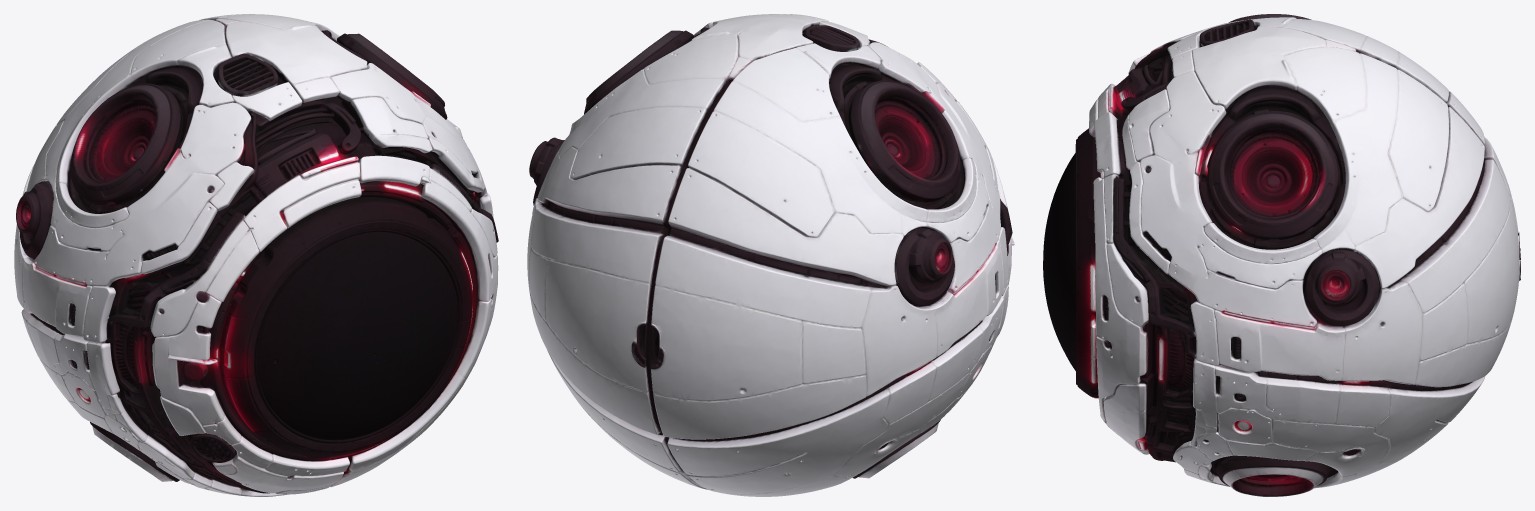
The model's file is robo-v3.glb.
The picture shows the model from 3 angles, left to right: view 1: azimuth 30°, elevation 25°; view 2: azimuth 150°, elevation 25°; view 3: azimuth 270°, elevation 25°; orthographic projection.
Parts seen in each view (by area): view 1: tripo_node_1b1b92eb-9413-4b2e-9169-5a5e2a978d6a; view 2: tripo_node_1b1b92eb-9413-4b2e-9169-5a5e2a978d6a; view 3: tripo_node_1b1b92eb-9413-4b2e-9169-5a5e2a978d6a.
Boxes of the visible parts, x1=… form: tripo_node_1b1b92eb-9413-4b2e-9169-5a5e2a978d6a: x1=14, y1=14, x2=498, y2=496; tripo_node_1b1b92eb-9413-4b2e-9169-5a5e2a978d6a: x1=527, y1=14, x2=1014, y2=496; tripo_node_1b1b92eb-9413-4b2e-9169-5a5e2a978d6a: x1=1043, y1=14, x2=1520, y2=496.
Size of the model in its own units: 0.9791 by 0.9796 by 0.9758.
1 material, 1 textured.
